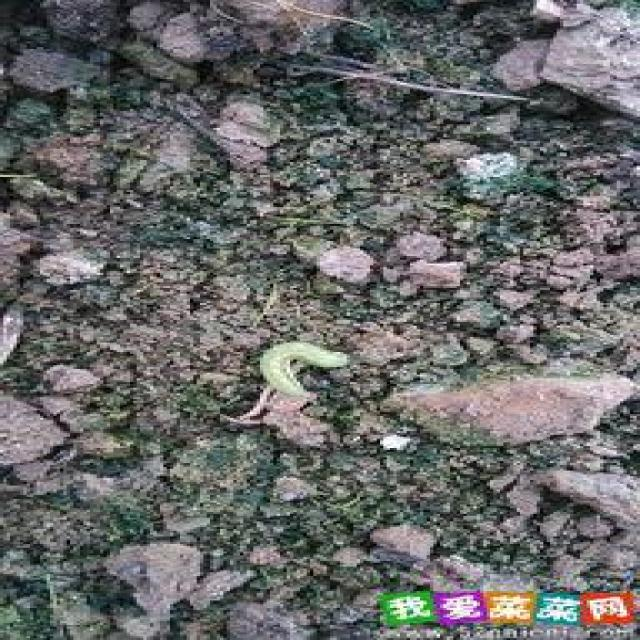BeetArmyWorm-Larva-: (255, 332, 352, 399)
